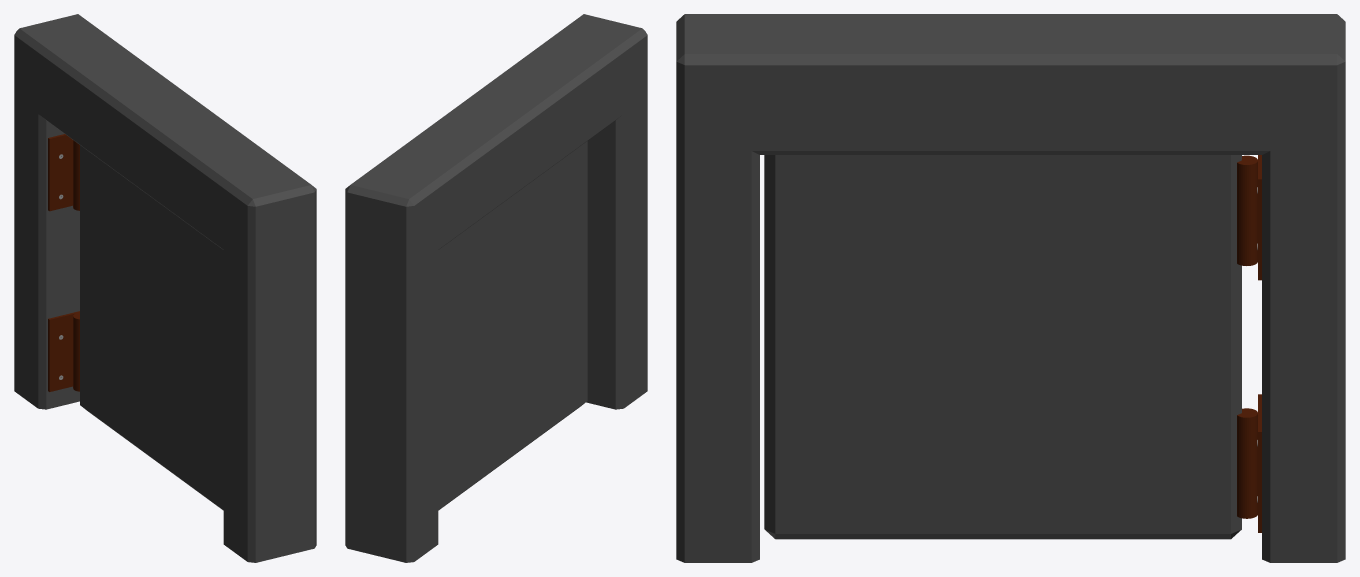
Rendered from Door1.fbx.
3 views of the same model, side by side, from view 1: azimuth 30°, elevation 25°; view 2: azimuth 150°, elevation 25°; view 3: azimuth 270°, elevation 25° (orthographic). The views are drawn at different scales.
Parts seen in each view (by area): view 1: Door frame, Cube.001, Hinge.001, Hinge, Cylinder.001, Cylinder; view 2: Door frame, Cube.001; view 3: Cube.001, Door frame, Cylinder.001, Cylinder.
Part boxes in pixels (x1,y1,x2,y2): Door frame: [14, 14, 316, 562]; Cube.001: [80, 145, 223, 510]; Hinge.001: [48, 311, 79, 391]; Hinge: [48, 134, 72, 211]; Cylinder.001: [73, 312, 79, 391]; Cylinder: [73, 140, 79, 210]; Door frame: [345, 14, 647, 562]; Cube.001: [438, 141, 587, 510]; Cube.001: [764, 155, 1241, 539]; Door frame: [676, 14, 1345, 562]; Cylinder.001: [1237, 408, 1257, 518]; Cylinder: [1237, 155, 1257, 265].
Size of the model in its own units: 100 by 500 by 600.
